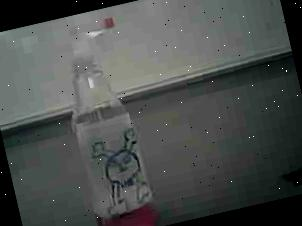hazard: (41, 4, 181, 226)
